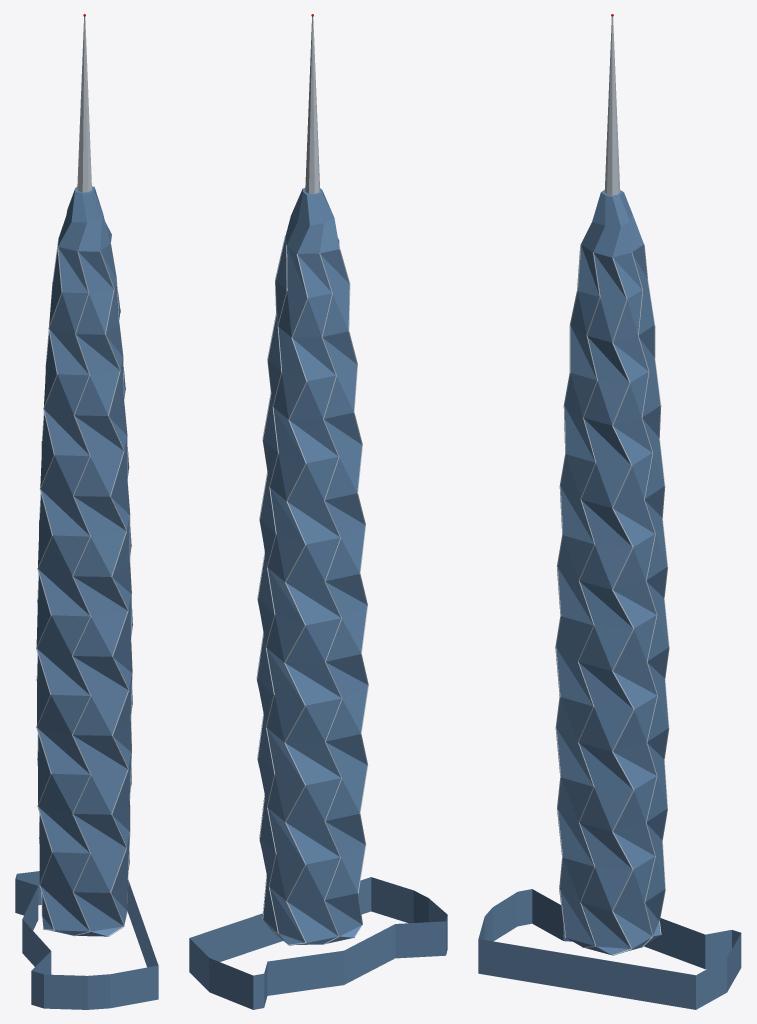
Rendered from env_lm3_merdeka118.fbx.
3 renders of one model, left to right at view 1: azimuth 30°, elevation 25°; view 2: azimuth 150°, elevation 25°; view 3: azimuth 270°, elevation 25°, orthographic.
Parts seen in each view (by area): view 1: env_lm3_merdeka118_geo_LOD0; view 2: env_lm3_merdeka118_geo_LOD0; view 3: env_lm3_merdeka118_geo_LOD0.
Boxes of the visible parts, x1,y1,x2,y2 form: env_lm3_merdeka118_geo_LOD0: (15, 14, 158, 1009); env_lm3_merdeka118_geo_LOD0: (189, 14, 447, 1009); env_lm3_merdeka118_geo_LOD0: (478, 14, 741, 1009).
Size of what is drawn, in the model's own units: 86.28 by 441 by 111.
